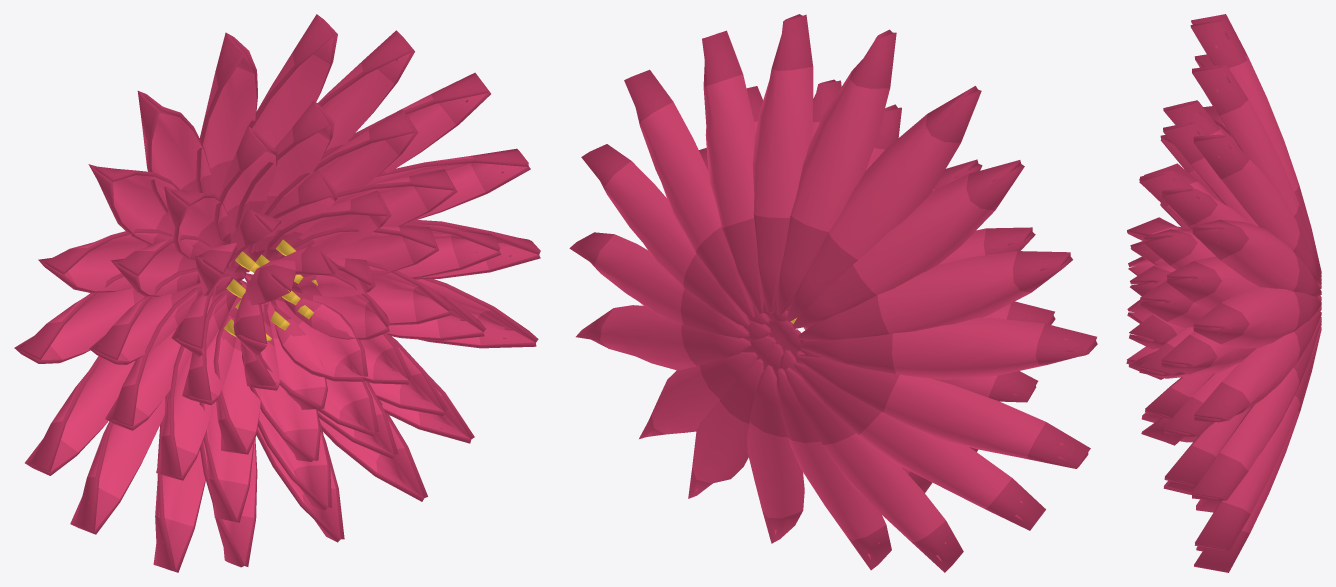
Rendered from garden-zinnia-bloom-head-2.glb.
3 views of the same model, side by side, from view 1: azimuth 30°, elevation 25°; view 2: azimuth 150°, elevation 25°; view 3: azimuth 270°, elevation 25° (orthographic). The views are drawn at different scales.
Visible parts, largest first — view 1: zinnia-bloom-head-2; view 2: zinnia-bloom-head-2; view 3: zinnia-bloom-head-2.
Part boxes in pixels (x1=…): zinnia-bloom-head-2: x1=14, y1=14, x2=540, y2=572; zinnia-bloom-head-2: x1=569, y1=14, x2=1097, y2=572; zinnia-bloom-head-2: x1=1126, y1=14, x2=1321, y2=572.
Bounding box in the file's own units: 0.1809 × 0.178 × 0.0639.
